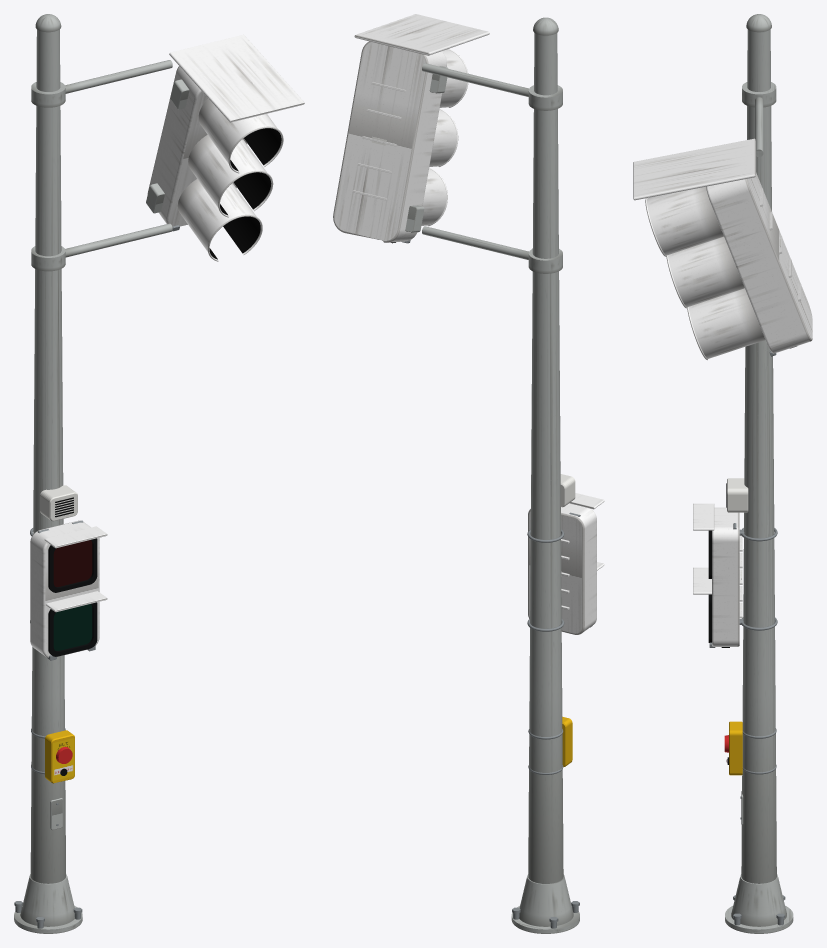
3 renders of one model, left to right at view 1: azimuth 30°, elevation 25°; view 2: azimuth 150°, elevation 25°; view 3: azimuth 270°, elevation 25°, orthographic.
Parts seen in each view (by area): view 1: jp-combo-vert-ped, opt_snow_on, lamp_p_red, lamp_p_walk, opt_button_on, opt_sound_on; view 2: jp-combo-vert-ped, opt_snow_on, opt_button_on; view 3: jp-combo-vert-ped, opt_snow_on, opt_button_on, opt_sound_on.
Part boxes in pixels (bbox=[...]): jp-combo-vert-ped: bbox=[14, 14, 283, 933]; opt_snow_on: bbox=[169, 34, 304, 122]; lamp_p_red: bbox=[53, 540, 92, 587]; lamp_p_walk: bbox=[53, 604, 92, 650]; opt_button_on: bbox=[31, 728, 74, 783]; opt_sound_on: bbox=[40, 485, 77, 521]; jp-combo-vert-ped: bbox=[333, 17, 604, 933]; opt_snow_on: bbox=[354, 14, 489, 55]; opt_button_on: bbox=[528, 716, 572, 774]; jp-combo-vert-ped: bbox=[645, 14, 812, 933]; opt_snow_on: bbox=[633, 138, 755, 200]; opt_button_on: bbox=[724, 721, 776, 775]; opt_sound_on: bbox=[726, 478, 748, 512].
Size of the model in its own units: 1.57 by 6.08 by 1.09.
22 materials, 4 textured.
